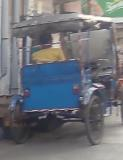Auto: (8, 11, 119, 147)
